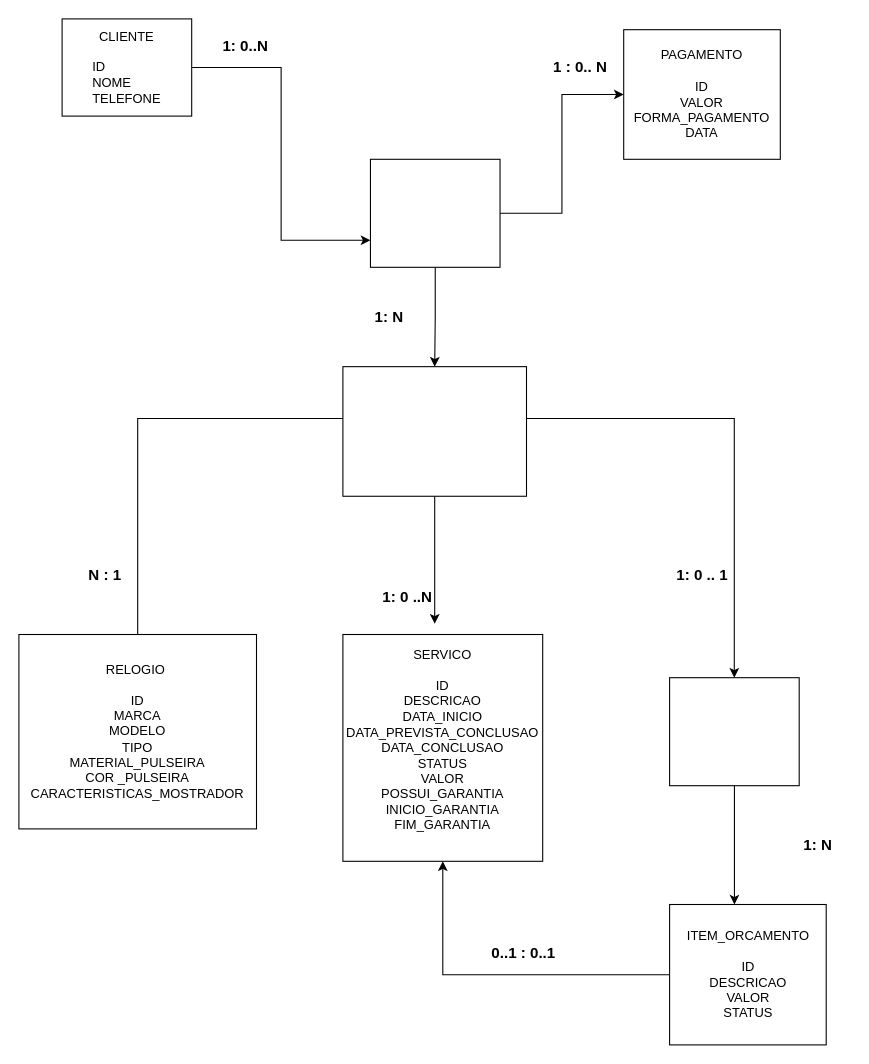
Some shapes in this 869 by 1064 pixel diagram are drawn without their labels. The shapes that lost their labels are listed below. From the top down, each one's box as (x1, y1, x2, y2) in pixels, then its label:
(369, 158, 500, 267): ATENDIMENTO ID NUMERO DATA STATUS
(342, 366, 526, 496): ITEM_ATENDIMENTO ID ESTADO_CONSERVACAO LOCALIZACAO_FISICA DATA_RETIRADA
(669, 677, 799, 786): ORCAMENTO ID DATA
